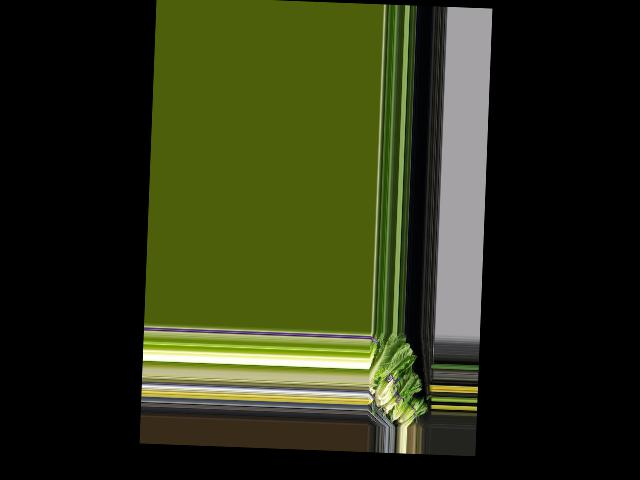lettuce: (370, 333, 410, 388)
